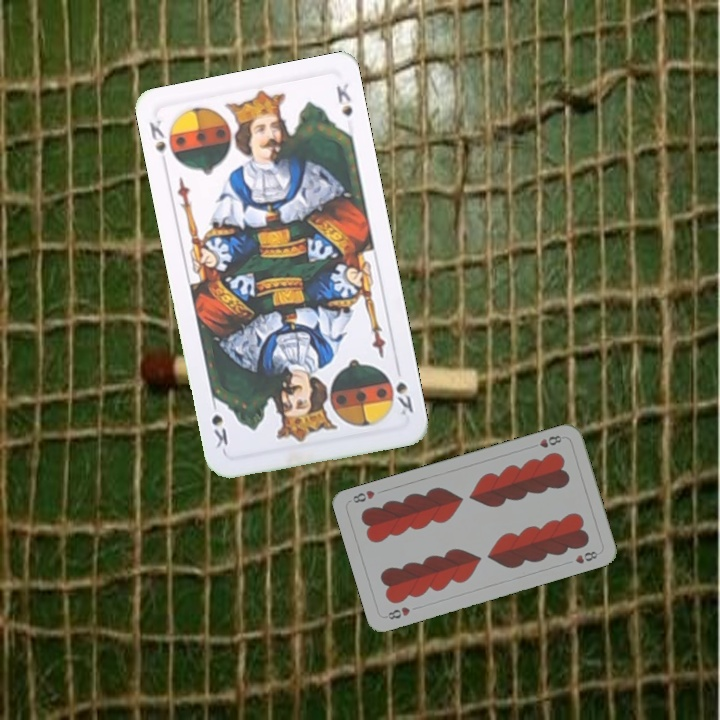H8: (527, 431, 564, 451), (381, 603, 413, 622)
SK: (145, 115, 170, 171), (392, 377, 416, 418)
